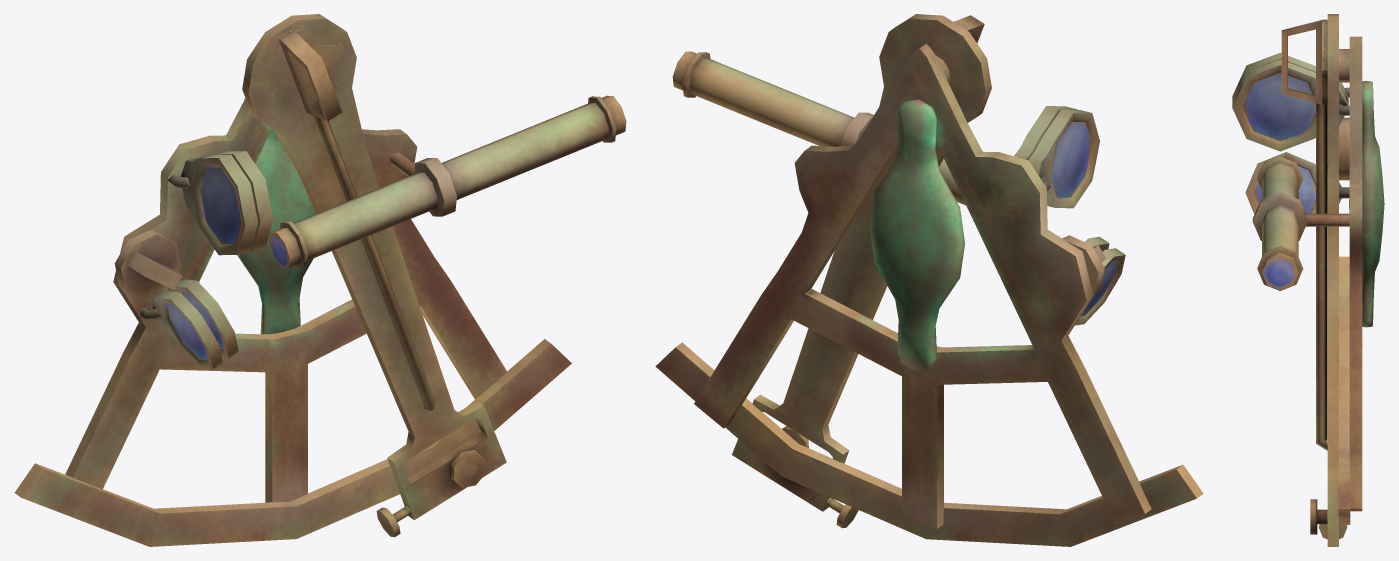
Rendered from Sextant.FBX.
3 views of the same model, side by side, from view 1: azimuth 30°, elevation 25°; view 2: azimuth 150°, elevation 25°; view 3: azimuth 270°, elevation 25° (orthographic). The views are drawn at different scales.
Visible parts, largest first — view 1: Sextant; view 2: Sextant; view 3: Sextant.
Boxes of the visible parts, x1,y1,x2,y2 form: Sextant: [14, 14, 626, 546]; Sextant: [655, 14, 1203, 546]; Sextant: [1232, 14, 1384, 546].
Bounding box in the file's own units: 96.19 × 25.17 × 88.17.
